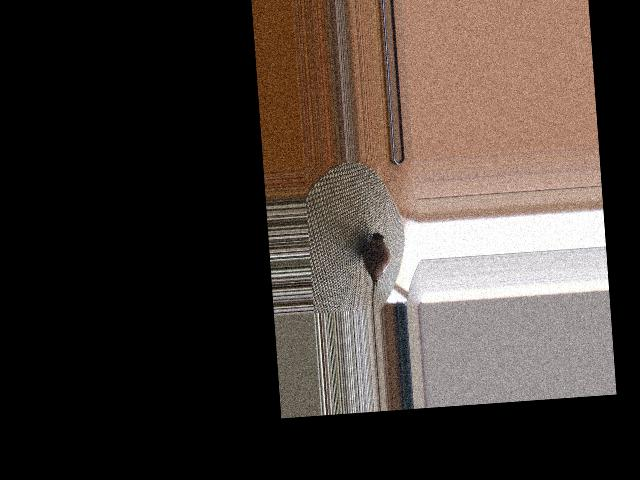beet: (361, 231, 393, 309)
